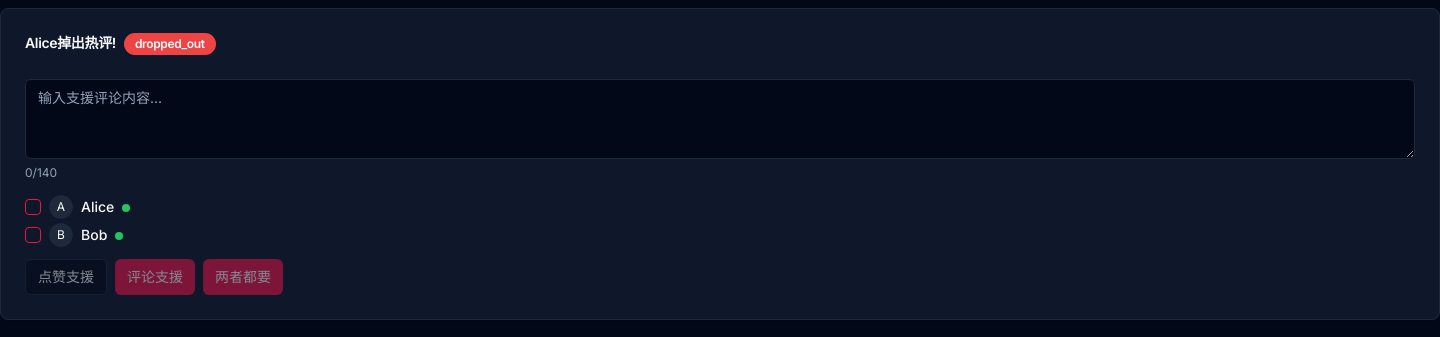
Test case: AlertCard › typing comment and selecting account enables buttons
Type comment
Type "加油!" into the text box with test id "comment-input" at [720, 119], box [25, 79, 1415, 159]
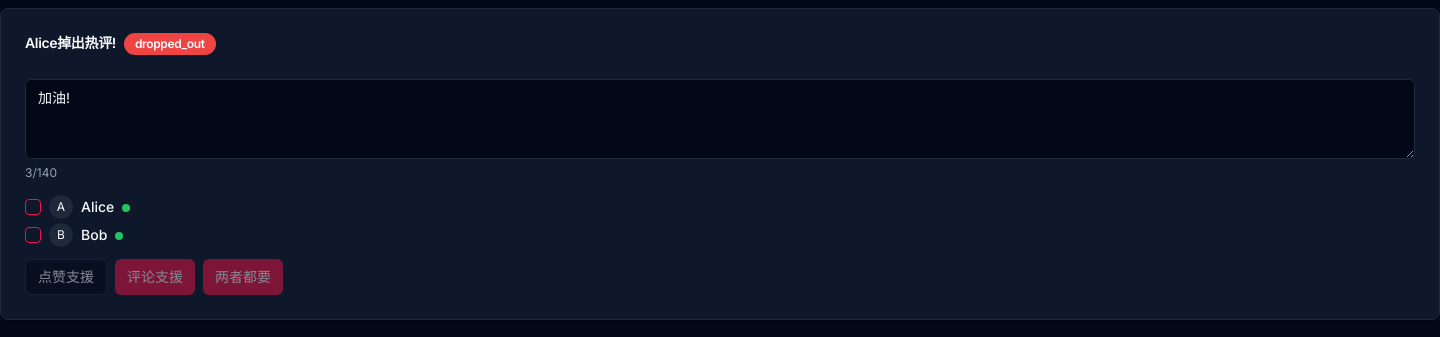
Check account checkbox
Click the checkbox with test id "account-checkbox-1" at [33, 207], box [25, 199, 41, 215]
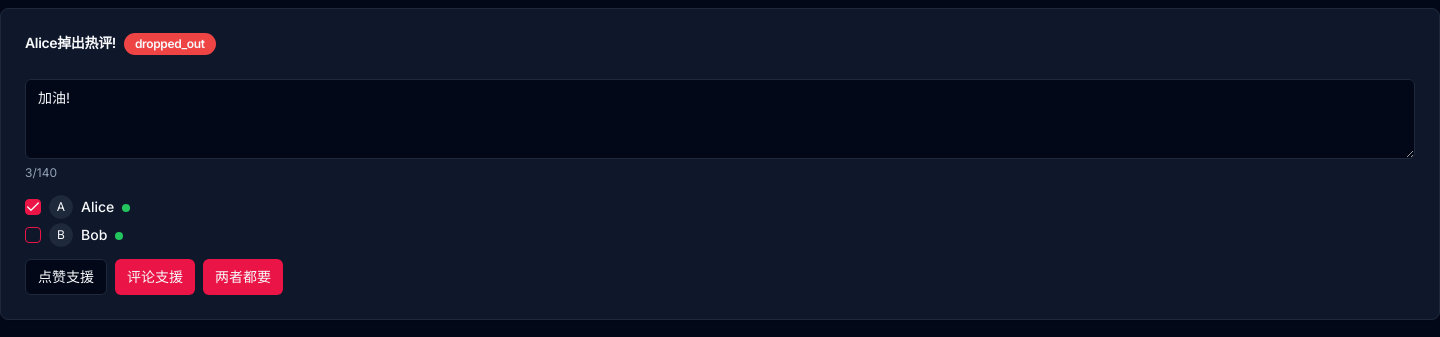
Expected: the button with test id "like-support-btn" is enabled, [25, 259, 107, 295]
Expected: the button with test id "comment-support-btn" is enabled, [115, 259, 195, 295]
Expected: the button with test id "both-support-btn" is enabled, [203, 259, 283, 295]
